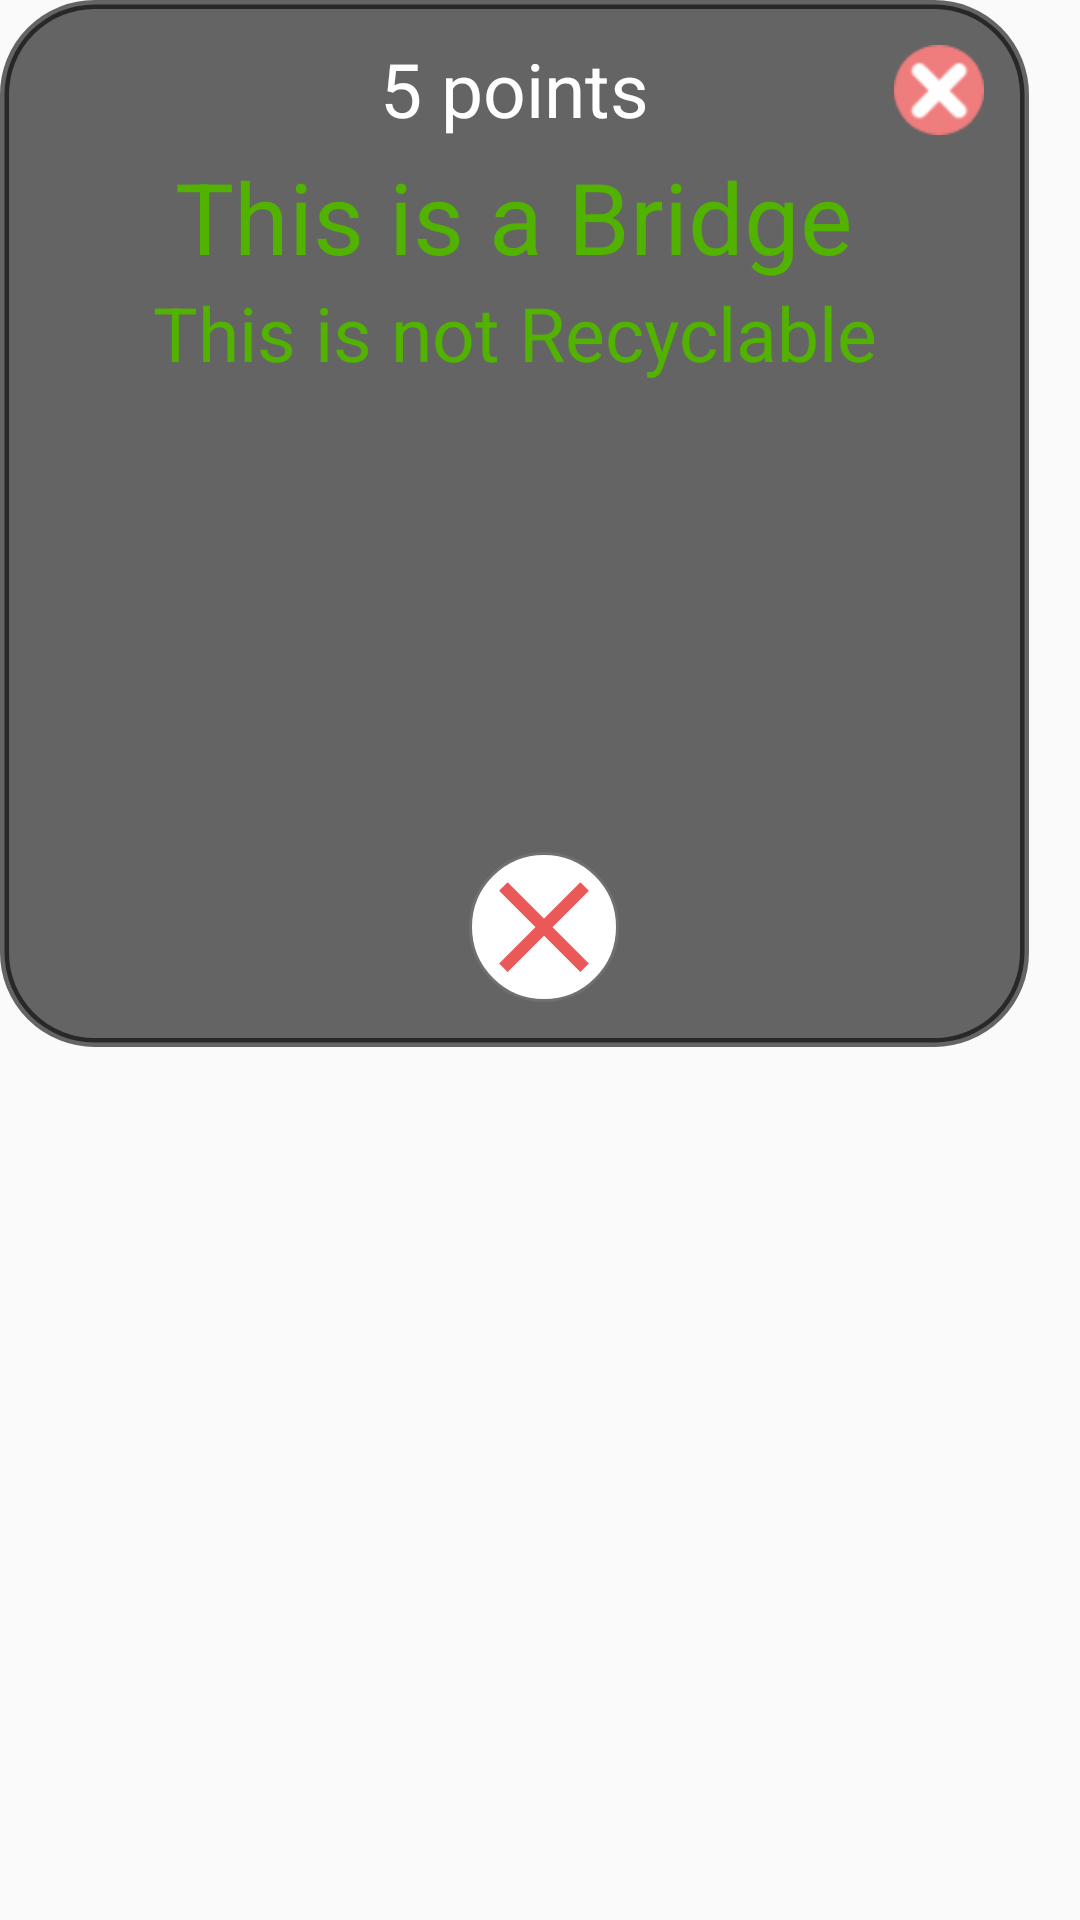

Screen size 1080×1920. Icon name, then its center in pixels as point (x, y):
close: point (939, 90), point (544, 927)
